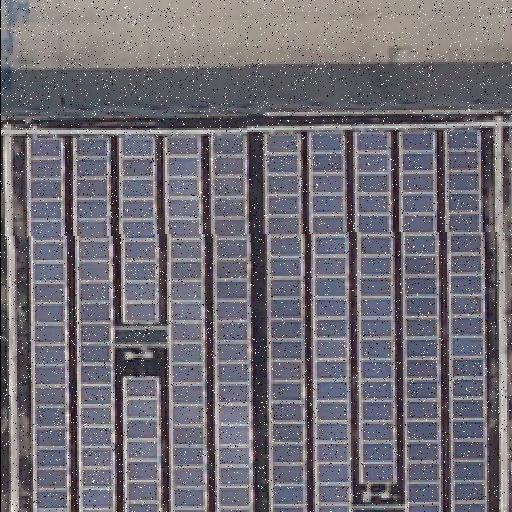solar-panel: (308, 129, 352, 511), (396, 129, 440, 511), (262, 132, 306, 512), (443, 129, 485, 511), (167, 132, 209, 512), (211, 132, 253, 512), (27, 134, 69, 512), (75, 134, 117, 512), (354, 131, 394, 485), (121, 133, 159, 323), (125, 376, 163, 512)
